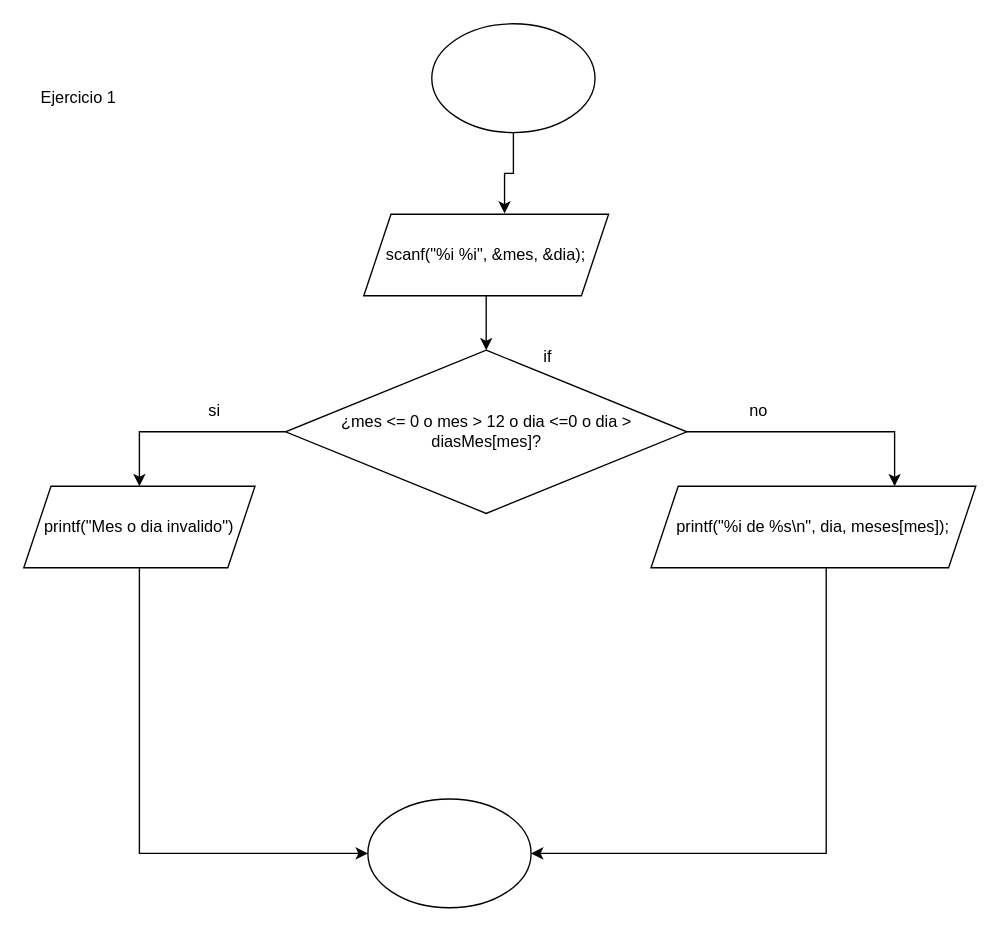
This 1000x932 diagram has some shape labels left out. The shapes that lost their labels are listed below. From the top down, each one's centre as x and y in pixels, then its label:
At point (512, 77): "Inicio del programa".
At point (449, 853): "Final".
